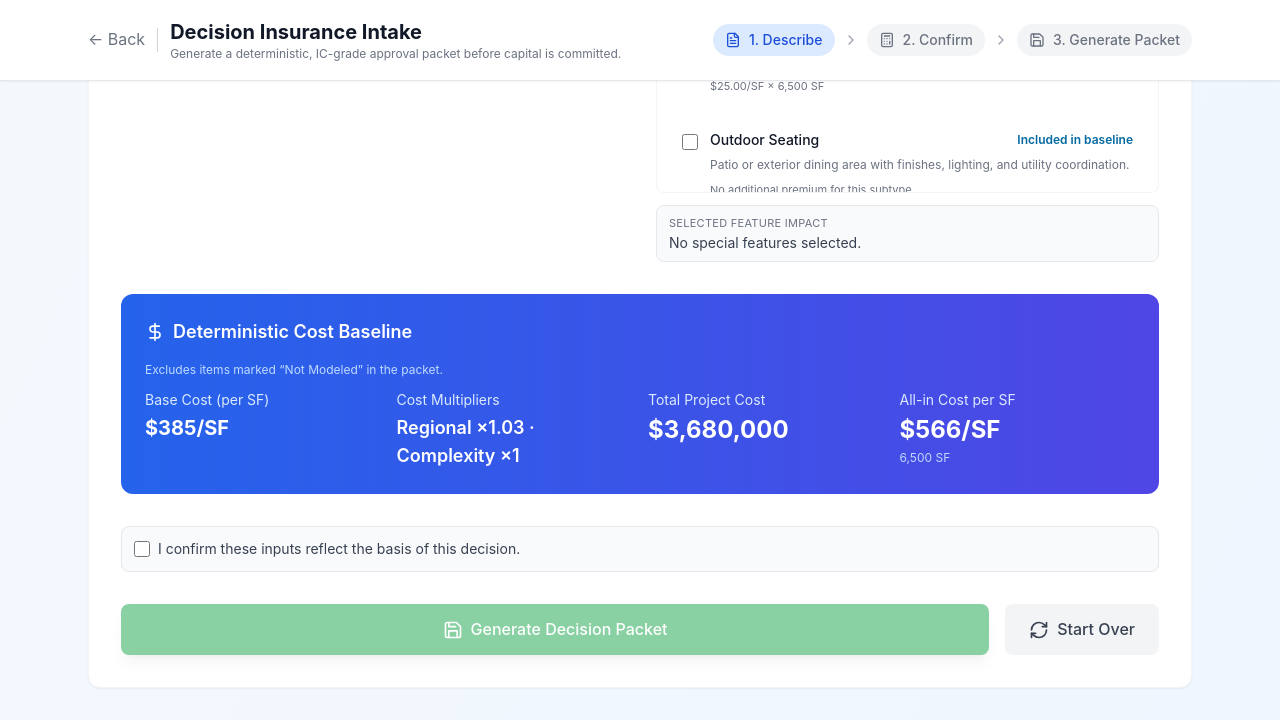
Test: NewProject special feature pricing parity › does not show a false proactive blocker when runs remain
(page scrolled)
Click the checkbox labelled "I confirm these inputs reflect the basis of this decision." at x=142, y=549, box 134,541 -> 150,557
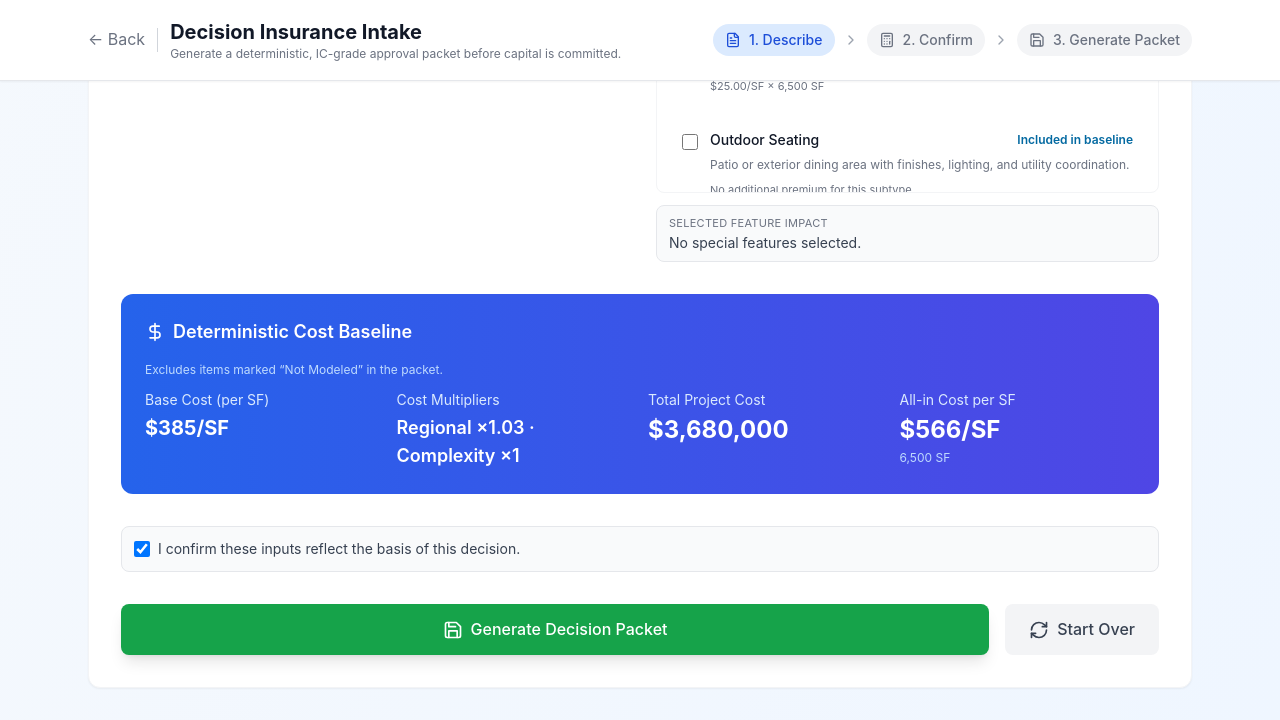
Expected: the button "Generate Decision Packet" is enabled, 121,604 -> 989,655
